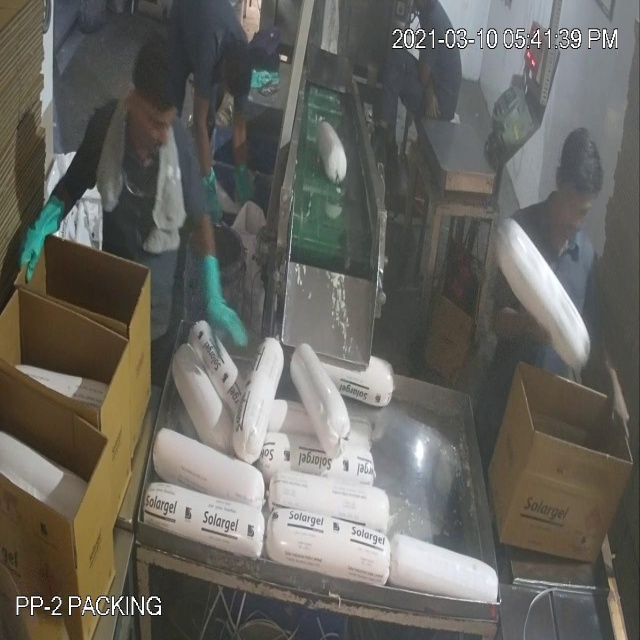Guantes: (191, 243, 258, 393), (3, 185, 70, 287)
Sin_guantes: (476, 294, 566, 372), (589, 306, 638, 449)
